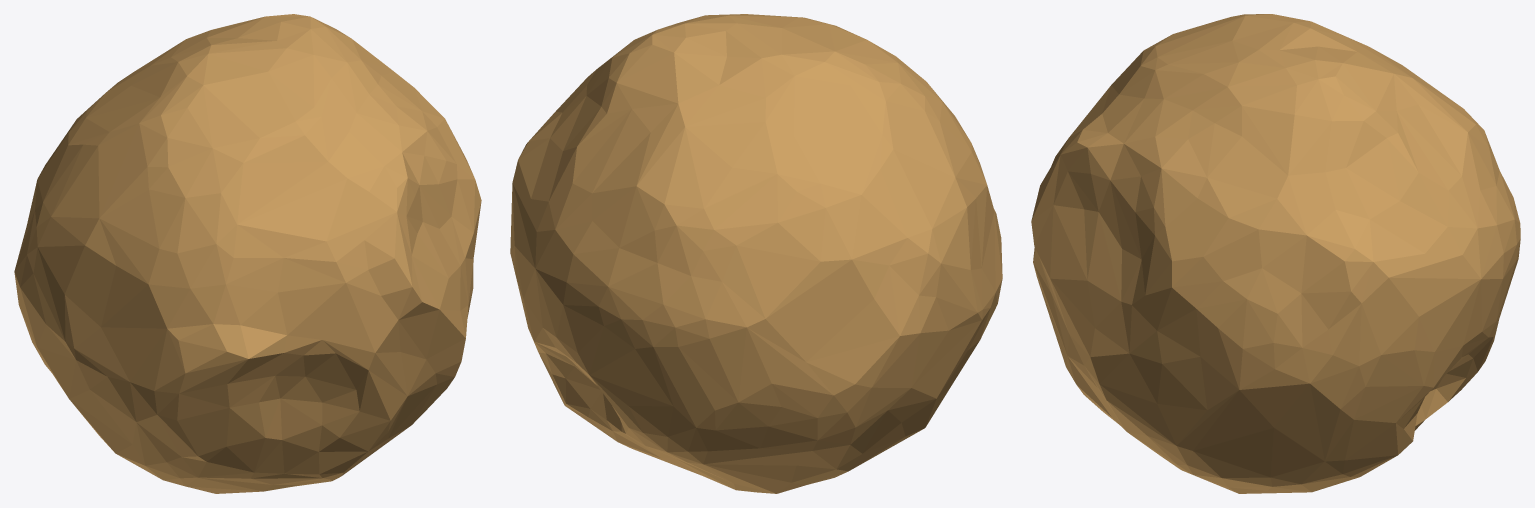
Rendered from SM_PlanetD.fbx.
The picture shows the model from 3 angles, left to right: view 1: azimuth 30°, elevation 25°; view 2: azimuth 150°, elevation 25°; view 3: azimuth 270°, elevation 25°; orthographic projection. The views are drawn at different scales.
Visible parts, largest first — view 1: PlanetD; view 2: PlanetD; view 3: PlanetD.
Boxes of the visible parts, bbox=[...] form: PlanetD: bbox=[14, 14, 481, 493]; PlanetD: bbox=[510, 14, 1002, 493]; PlanetD: bbox=[1031, 14, 1520, 493].
Size of the model in its own units: 1.97 by 1.98 by 2.
1 material, 1 textured.
